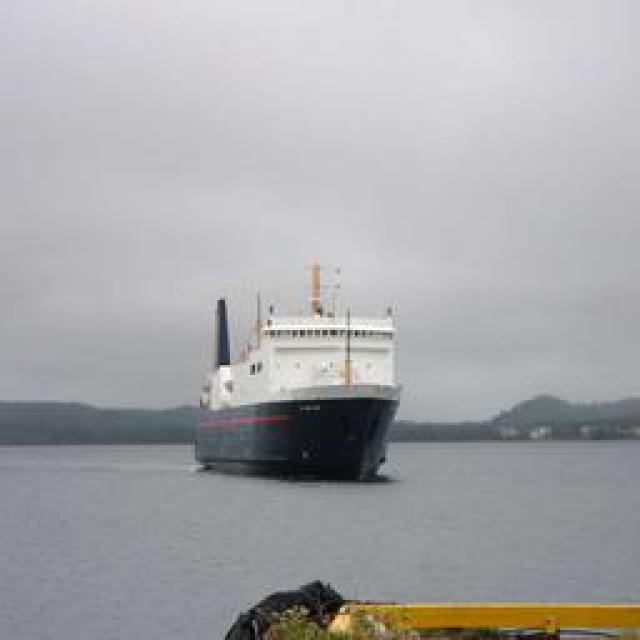Ship: (196, 275, 406, 485)
